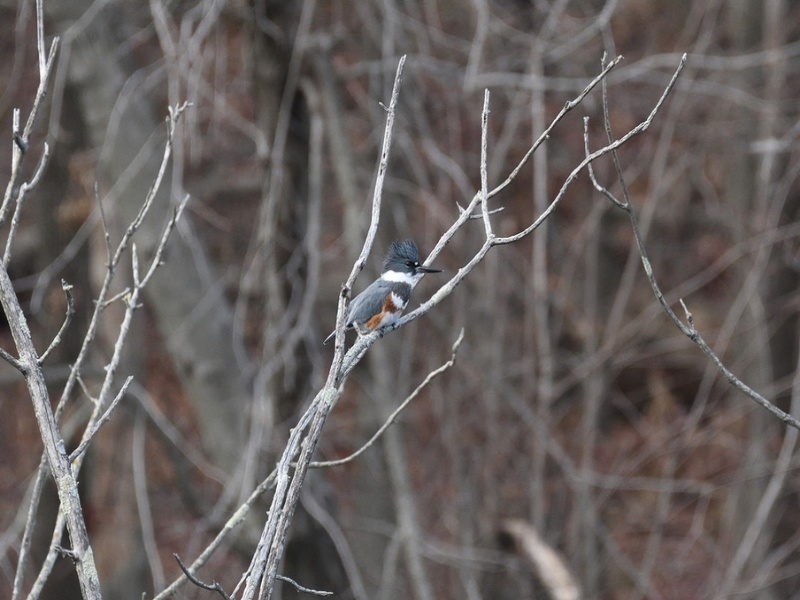kingfisher: (324, 239, 451, 351)
